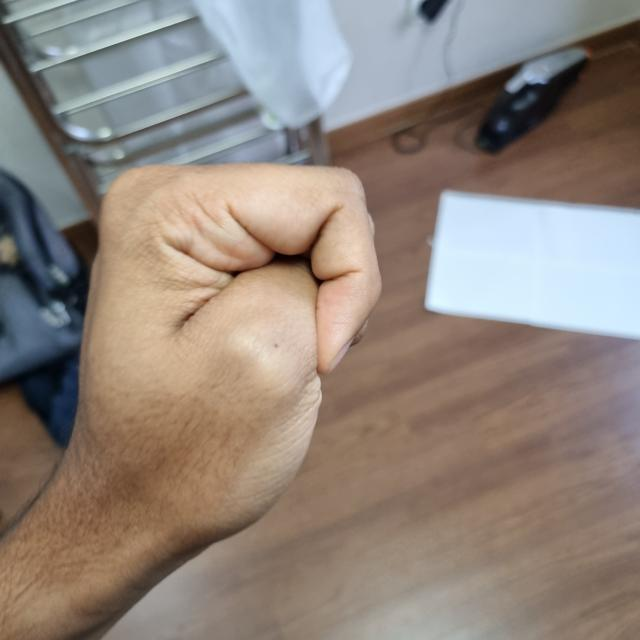Rock: (66, 161, 370, 542)
